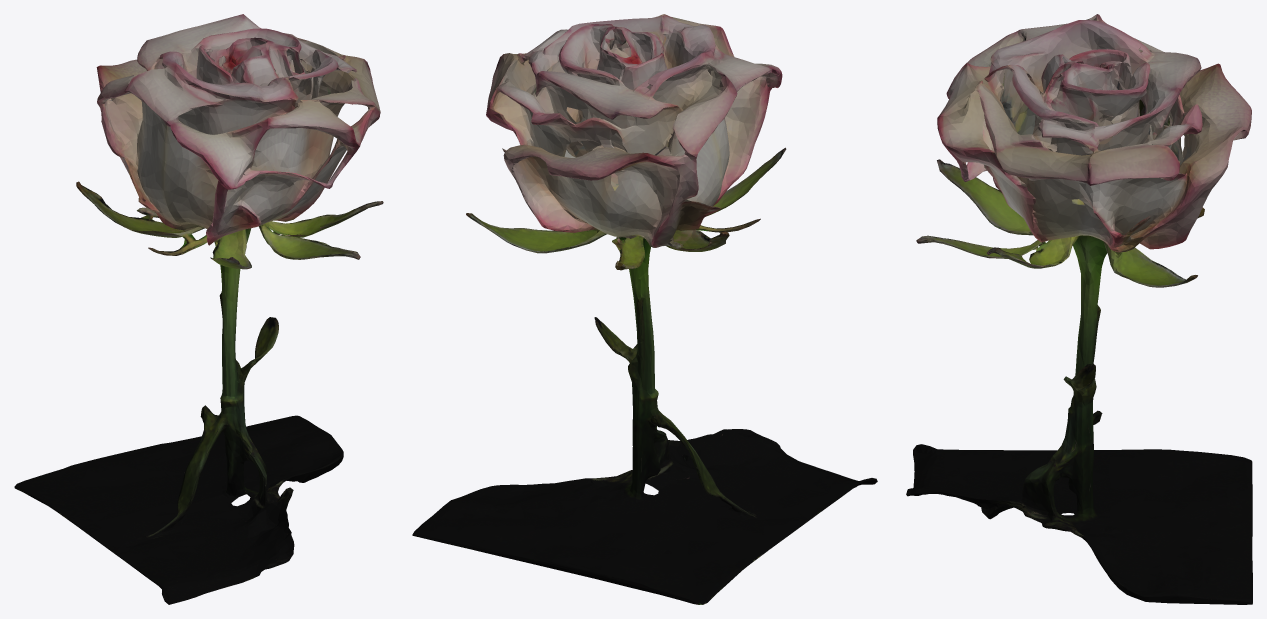
3 views of the same model, side by side, from view 1: azimuth 30°, elevation 25°; view 2: azimuth 150°, elevation 25°; view 3: azimuth 270°, elevation 25° (orthographic). The views are drawn at different scales.
Parts seen in each view (by area): view 1: world; view 2: world; view 3: world.
Part boxes in pixels (left/top/right/bottom): world: left=14, top=14, right=383, bottom=604; world: left=412, top=14, right=877, bottom=604; world: left=906, top=14, right=1252, bottom=604.
Bounding box in the file's own units: 0.6506 × 0.9802 × 0.6365.
1 material, 1 textured.
